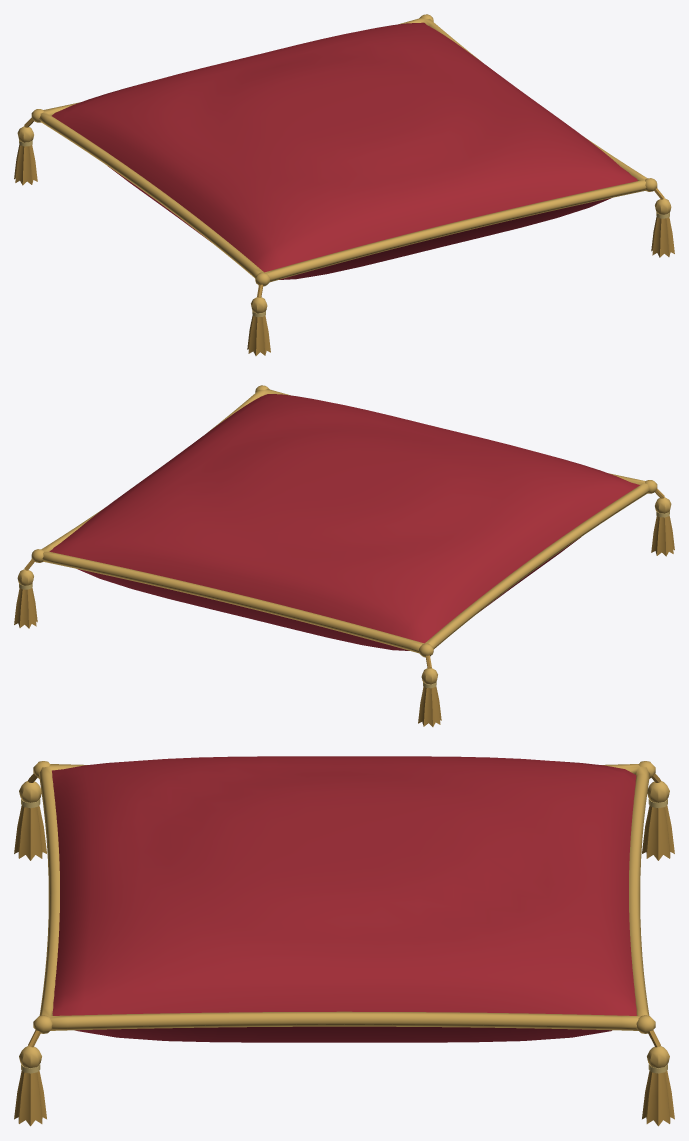
Rendered from coronation_cushion.glb.
3 views of the same model, one above another, from view 1: azimuth 30°, elevation 25°; view 2: azimuth 150°, elevation 25°; view 3: azimuth 270°, elevation 25° (orthographic). The views are drawn at different scales.
Visible parts, largest first — view 1: coronation_cushion_vc, coronation_cushion_vc_detail; view 2: coronation_cushion_vc, coronation_cushion_vc_detail; view 3: coronation_cushion_vc, coronation_cushion_vc_detail.
Boxes of the visible parts, x1,y1,x2,y2 form: coronation_cushion_vc: (39, 18, 647, 282); coronation_cushion_vc_detail: (14, 14, 674, 355); coronation_cushion_vc: (41, 389, 649, 653); coronation_cushion_vc_detail: (14, 385, 674, 726); coronation_cushion_vc: (39, 756, 649, 1042); coronation_cushion_vc_detail: (14, 761, 674, 1126).
Bounding box in the file's own units: 0.3984 × 0.0995 × 0.3984.
